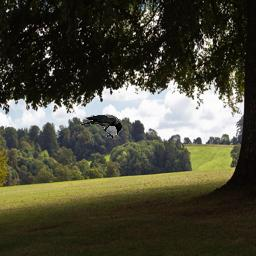Crow: (80, 114, 122, 138)
